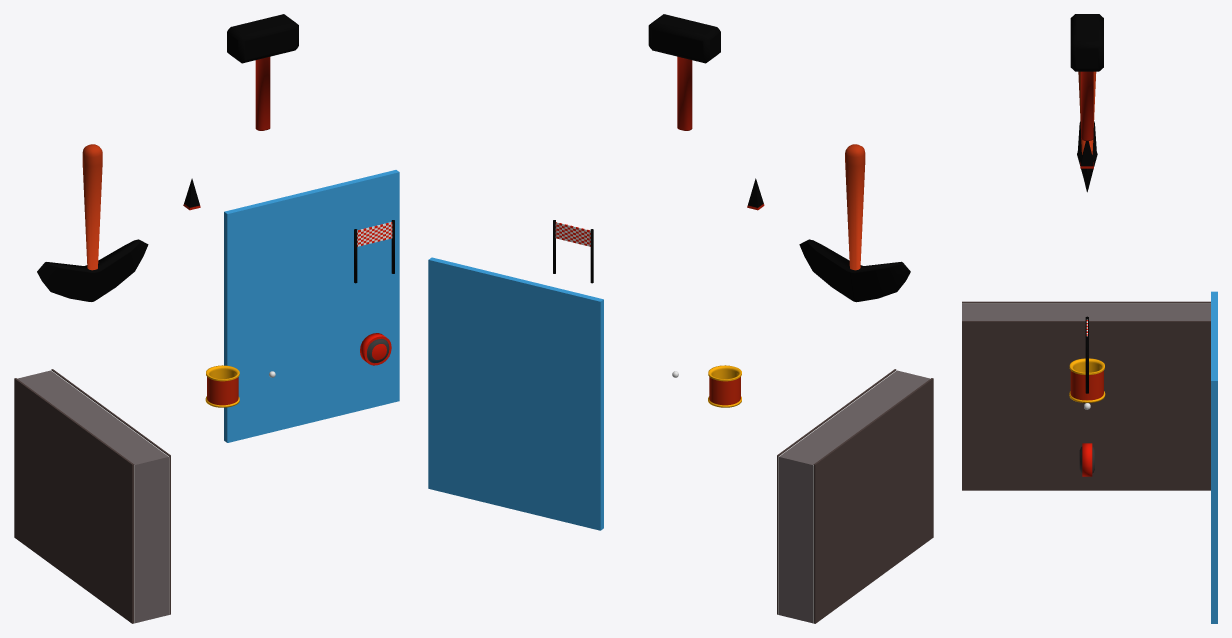
Rendered from nimbleRunnerOther.fbx.
3 views of the same model, side by side, from view 1: azimuth 30°, elevation 25°; view 2: azimuth 150°, elevation 25°; view 3: azimuth 270°, elevation 25° (orthographic). The views are drawn at different scales.
Parts seen in each view (by area): view 1: Куб.004, Cube, Куб.006, Куб.008, Куб.001, Куб.005, Куб.003; view 2: Куб.004, Cube, Куб.006, Куб.008, Куб.001, Куб.005; view 3: Cube, Куб.008, Куб.004, Куб.001, Куб.006, Куб.003.
Boxes of the visible parts, x1,y1,x2,y2 form: Куб.004: (224, 170, 399, 442); Cube: (14, 369, 170, 623); Куб.006: (37, 144, 148, 301); Куб.008: (227, 14, 298, 130); Куб.001: (205, 365, 239, 407); Куб.005: (354, 220, 394, 283); Куб.003: (360, 333, 391, 365); Куб.004: (428, 257, 603, 530); Cube: (777, 369, 933, 623); Куб.006: (799, 144, 910, 302); Куб.008: (648, 14, 720, 130); Куб.001: (708, 365, 741, 407); Куб.005: (553, 220, 593, 283); Cube: (962, 301, 1210, 490); Куб.008: (1070, 14, 1103, 140); Куб.004: (1211, 291, 1217, 623); Куб.001: (1069, 358, 1105, 402); Куб.006: (1077, 71, 1097, 192); Куб.003: (1079, 443, 1094, 476).
Size of the model in its own units: 3121 by 3613 by 1549.
